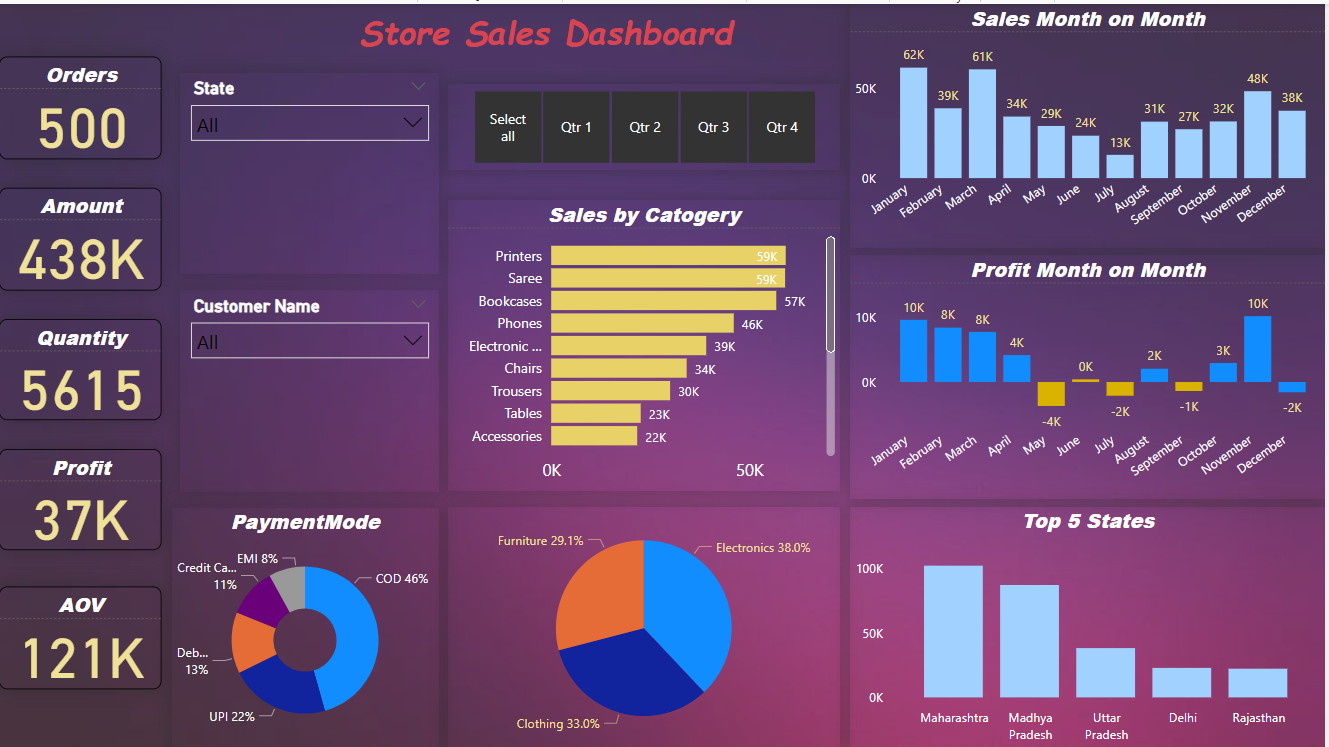

What the dashboard file says about the page in this screenshot:
{"tool":"powerbi","page":{"name":"Page 1","canvas":[1280,720],"ordinal":0},"visuals":[{"type":"textbox","box":[300.3,0,454.7,66.3],"z":0},{"type":"clusteredColumnChart","title":"Sales Month on Month","fields":{"Category":["Orders.Order Date.Variation.Date Hierarchy.Month"],"Y":["Sum(Details.Amount)"]},"box":[821.3,0,458.3,235.2],"z":1000},{"type":"clusteredColumnChart","title":"Profit Month on Month","fields":{"Category":["Orders.Order Date.Variation.Date Hierarchy.Month"],"Y":["Sum(Details.Profit)"]},"box":[821.3,242.4,458.3,235.2],"z":2000},{"type":"pieChart","title":"sales by catogery","fields":{"Category":["Details.Category"],"Y":["Sum(Details.Amount)"]},"box":[433,484.8,378.7,235.2],"z":3000},{"type":"card","title":"Orders","fields":{"Values":["Count(Details.Order ID)"]},"box":[0,50.7,156.8,98.9],"z":4000},{"type":"card","title":"Amount","fields":{"Values":["Sum(Details.Amount)"]},"box":[0,177.3,156.8,98.9],"z":5000},{"type":"card","title":"Quantity","fields":{"Values":["Sum(Details.Quantity)"]},"box":[0,303.9,156.8,97.7],"z":6000},{"type":"card","title":"Profit","fields":{"Values":["Sum(Details.Profit)"]},"box":[0,429.3,156.8,97.7],"z":7000},{"type":"clusteredColumnChart","title":"Top 5 States","fields":{"Category":["Orders.State"],"Y":["Sum(Details.Amount)"]},"box":[821.3,484.8,458.3,235.2],"z":8000},{"type":"donutChart","title":"PaymentMode","fields":{"Category":["Details.PaymentMode"],"Y":["CountNonNull(Details.PaymentMode)"]},"box":[166.4,486,258.1,234],"z":9000},{"type":"card","title":"AOV","fields":{"Values":["Sum(Details.AOV)"]},"box":[0,562,156.8,98.9],"z":10000},{"type":"slicer","fields":{"Values":["Orders.Order Date.Variation.Date Hierarchy.Quarter"]},"box":[433,77.2,378.7,83.2],"z":11000},{"type":"clusteredBarChart","title":"Sales by Catogery","fields":{"Category":["Details.Sub-Category"],"Y":["Sum(Details.Amount)"]},"box":[433,189.3,378.7,281],"z":12000},{"type":"slicer","fields":{"Values":["Orders.CustomerName"]},"box":[174.9,276.2,249.6,194.2],"z":13000},{"type":"slicer","fields":{"Values":["Orders.State"]},"box":[174.9,66.3,249.6,194.2],"z":14000}]}

Visuals, with their boxes in screenshot pixels (x1, y1, x2, y2), scaled from the page's 1280x720 canvas onto the 1329x747 screenshot:
textbox: bbox=(312, 0, 784, 69)
"Sales Month on Month" clusteredColumnChart: bbox=(853, 0, 1328, 244)
"Profit Month on Month" clusteredColumnChart: bbox=(853, 251, 1328, 496)
"sales by catogery" pieChart: bbox=(450, 503, 843, 746)
"Orders" card: bbox=(0, 53, 163, 155)
"Amount" card: bbox=(0, 184, 163, 287)
"Quantity" card: bbox=(0, 315, 163, 417)
"Profit" card: bbox=(0, 445, 163, 547)
"Top 5 States" clusteredColumnChart: bbox=(853, 503, 1328, 746)
"PaymentMode" donutChart: bbox=(173, 504, 441, 746)
"AOV" card: bbox=(0, 583, 163, 686)
slicer - Orders.Order Date.Variation.Date Hierarchy.Quarter: bbox=(450, 80, 843, 166)
"Sales by Catogery" clusteredBarChart: bbox=(450, 196, 843, 488)
slicer - Orders.CustomerName: bbox=(182, 287, 441, 488)
slicer - Orders.State: bbox=(182, 69, 441, 270)
